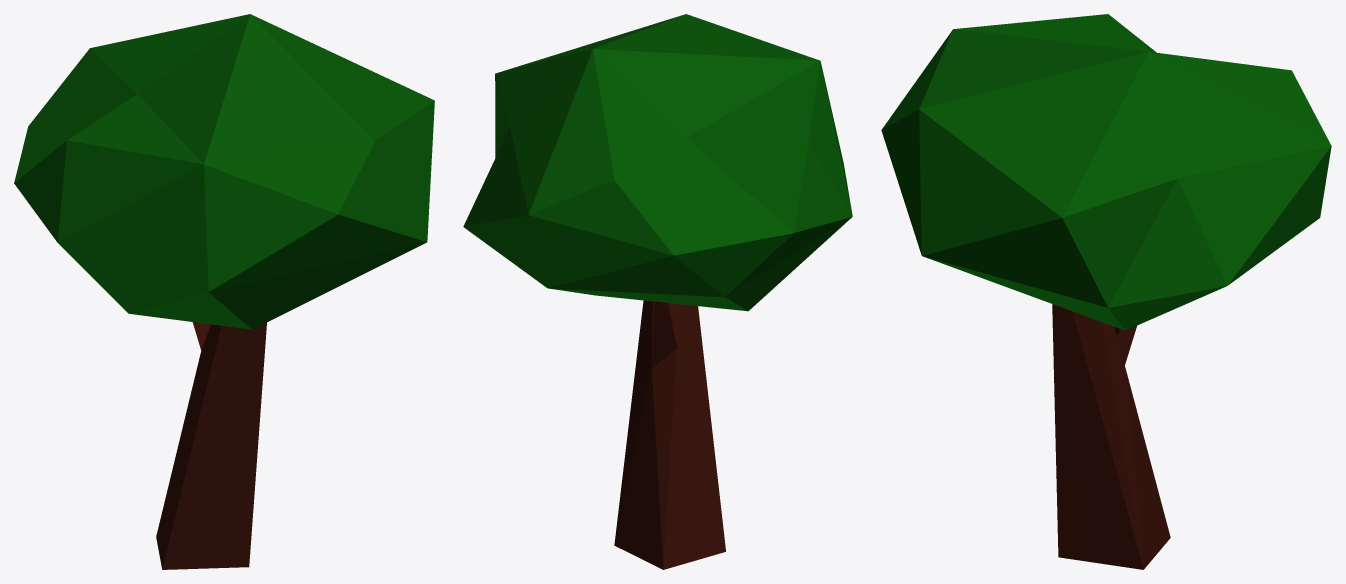
Rendered from tree2.obj.
The picture shows the model from 3 angles, left to right: view 1: azimuth 30°, elevation 25°; view 2: azimuth 150°, elevation 25°; view 3: azimuth 270°, elevation 25°; orthographic projection. The views are drawn at different scales.
Parts seen in each view (by area): view 1: tree2; view 2: tree2; view 3: tree2.
Boxes of the visible parts, x1,y1,x2,y2 form: tree2: (14, 14, 434, 569); tree2: (463, 14, 852, 569); tree2: (881, 14, 1331, 569).
Bounding box in the file's own units: 7.7 × 10.06 × 7.77.
